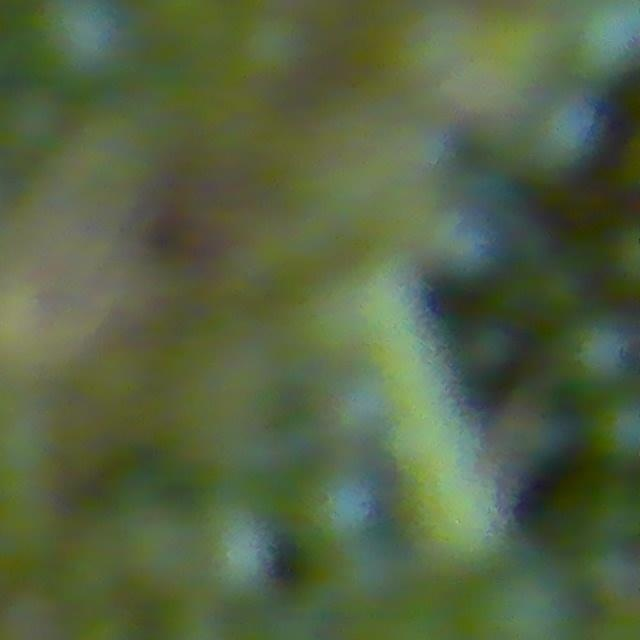SeaGrape: (26, 0, 132, 98), (466, 563, 582, 640), (194, 505, 278, 599), (297, 462, 381, 549), (524, 93, 605, 176), (559, 312, 640, 392), (568, 0, 640, 84), (323, 368, 392, 442), (0, 86, 65, 162), (590, 392, 639, 472)
